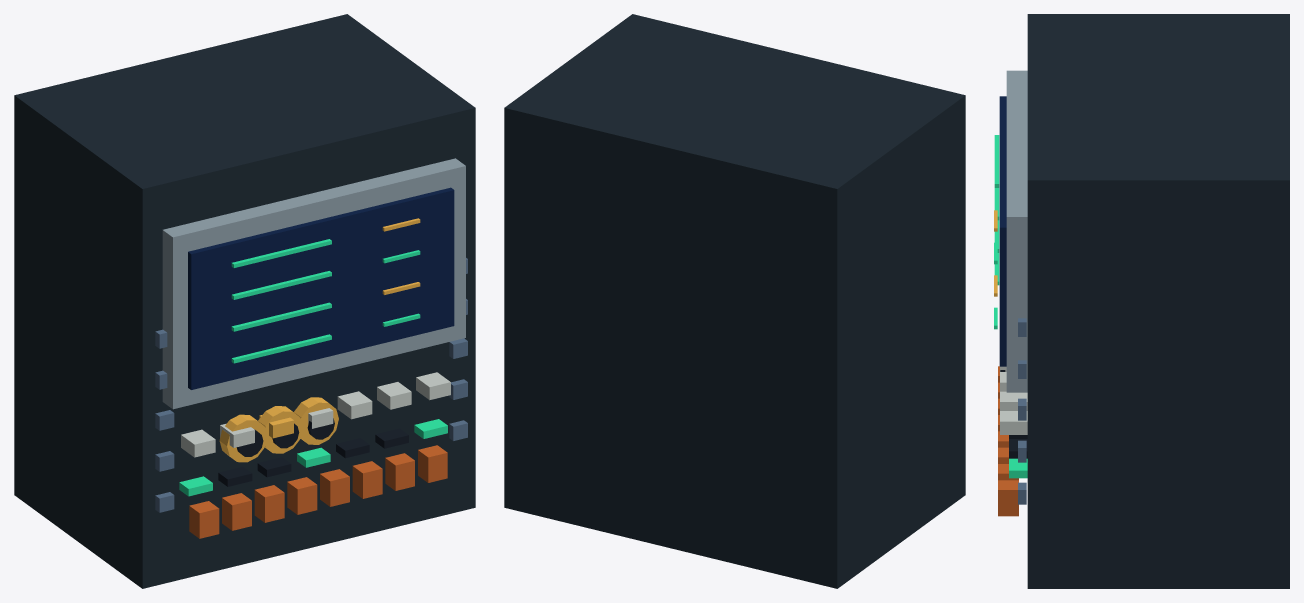
Rendered from 24_L84_ReactionWheelMotorCurrentMonitor.fbx.
The picture shows the model from 3 angles, left to right: view 1: azimuth 30°, elevation 25°; view 2: azimuth 150°, elevation 25°; view 3: azimuth 270°, elevation 25°; orthographic projection. The views are drawn at different scales.
Visible parts, largest first — view 1: L84_ReactionWheelMotorCurrentMonitor, L84_ReactionWheelMotorCurrentMonitor_Part_0009, L84_ReactionWheelMotorCurrentMonitor_Part_0013, L84_ReactionWheelMotorCurrentMonitor_Part_0011; view 2: L84_ReactionWheelMotorCurrentMonitor; view 3: L84_ReactionWheelMotorCurrentMonitor.
Boxes of the visible parts, x1,y1,x2,y2 form: L84_ReactionWheelMotorCurrentMonitor: [14, 14, 475, 588]; L84_ReactionWheelMotorCurrentMonitor_Part_0009: [219, 414, 266, 462]; L84_ReactionWheelMotorCurrentMonitor_Part_0013: [294, 397, 338, 444]; L84_ReactionWheelMotorCurrentMonitor_Part_0011: [258, 406, 303, 453]; L84_ReactionWheelMotorCurrentMonitor: [504, 14, 965, 588]; L84_ReactionWheelMotorCurrentMonitor: [994, 14, 1289, 588].
Size of the model in its own units: 107 by 123 by 80.59.
